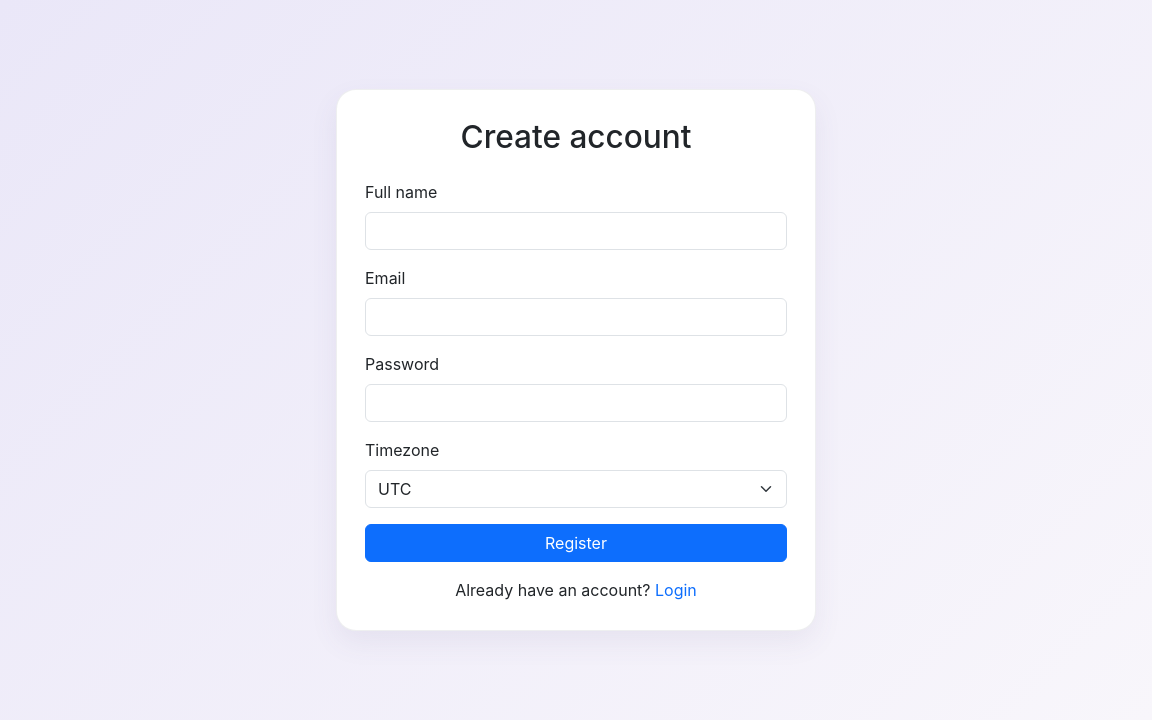
Test case: authentication feedback › shows registration success after navigating to the dashboard
Type "Test User" into the field labelled "Full name".
click(576, 231); type("Test User")  # box 365,212 -> 787,250
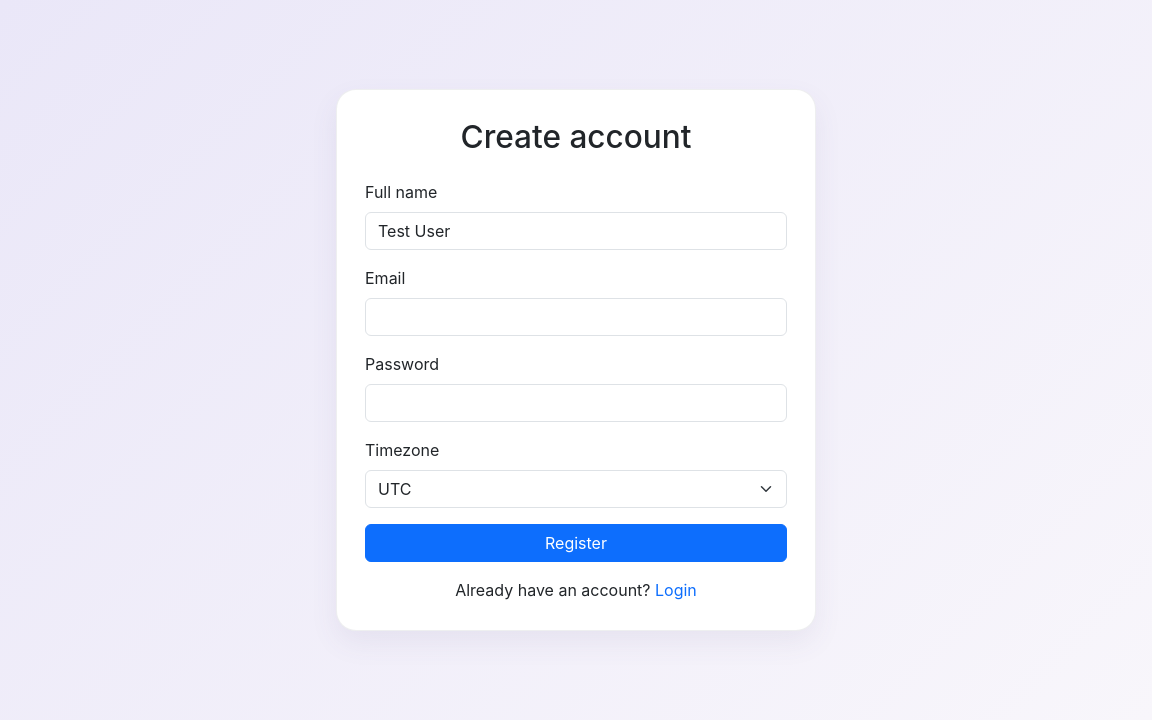
Type "test@example.com" into the field labelled "Email".
click(576, 317); type("test@example.com")  # box 365,298 -> 787,336
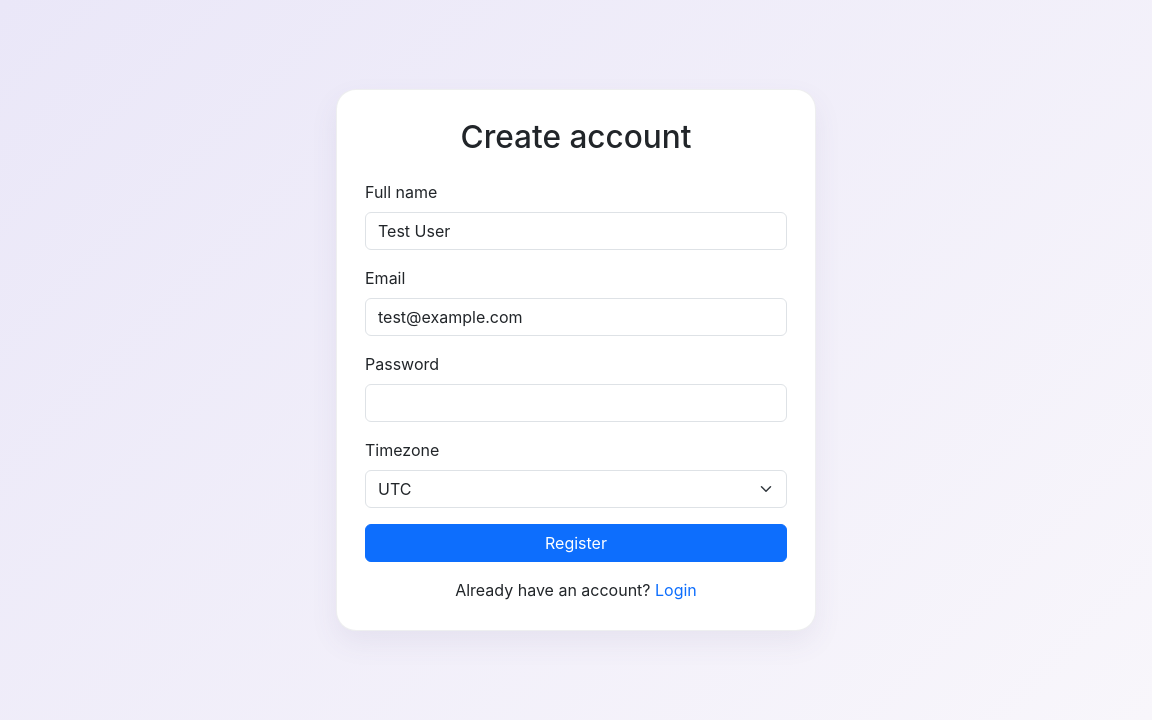
Type "secret123" into the password field labelled "Password".
click(576, 403); type("secret123")  # box 365,384 -> 787,422
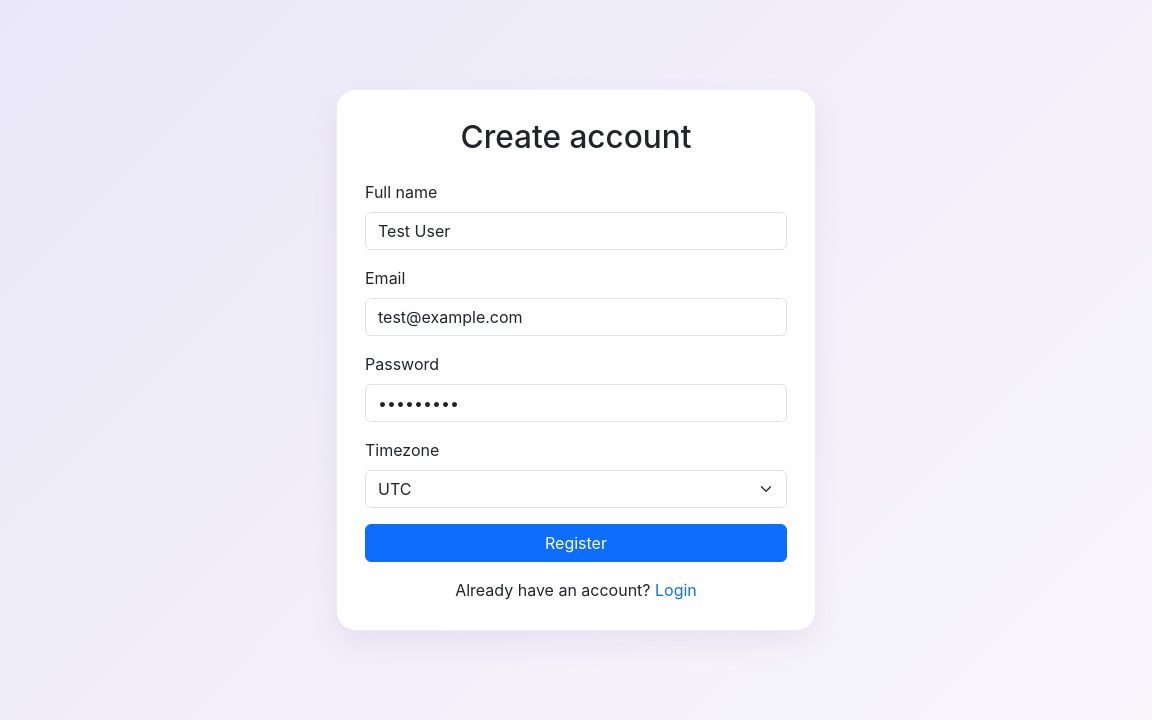
Click the button "Register".
click(576, 543)  # box 365,524 -> 787,562
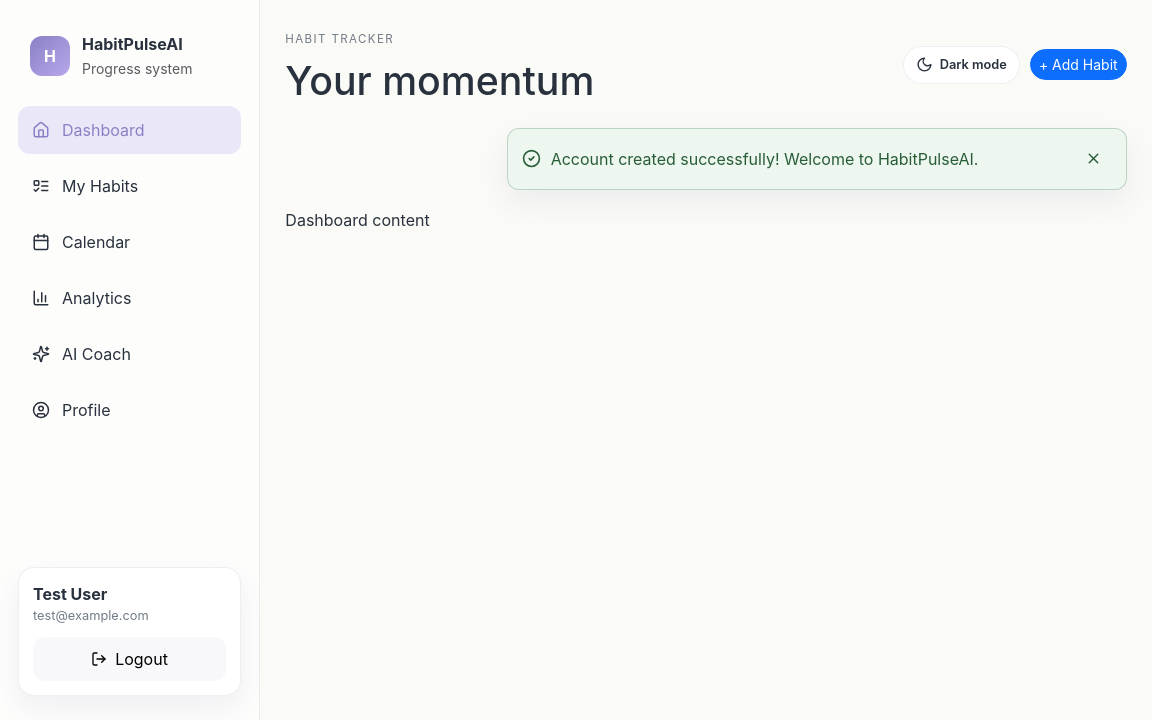
Check: the text "Dashboard content" is shown, box 285,210 -> 430,230
Check: the message reads "Account created successfully! Welcome to HabitPulseAI.", box 551,149 -> 978,169
